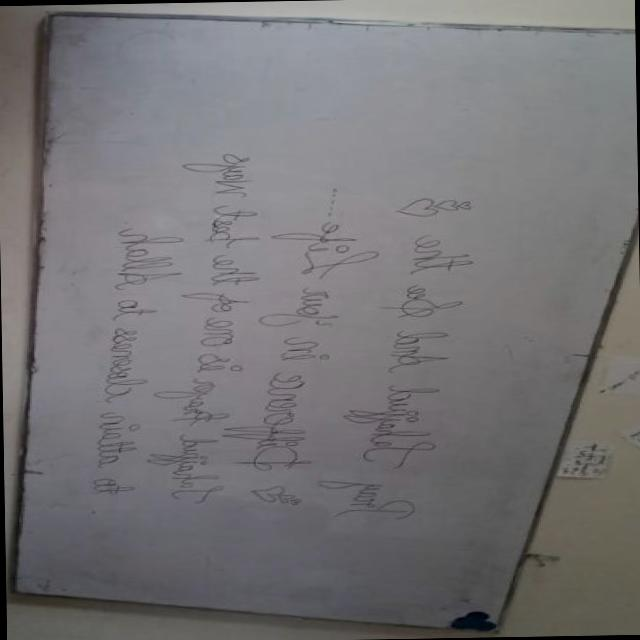White-board: (11, 12, 633, 630)
